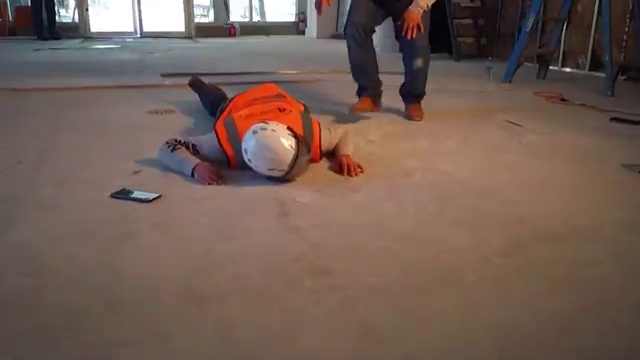helmet: (236, 118, 303, 182)
jacket: (223, 78, 308, 121)
